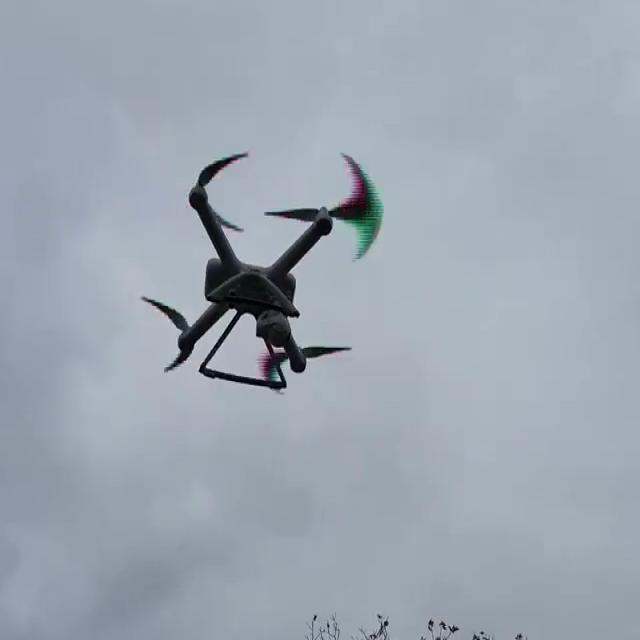drone: (138, 141, 394, 399)
